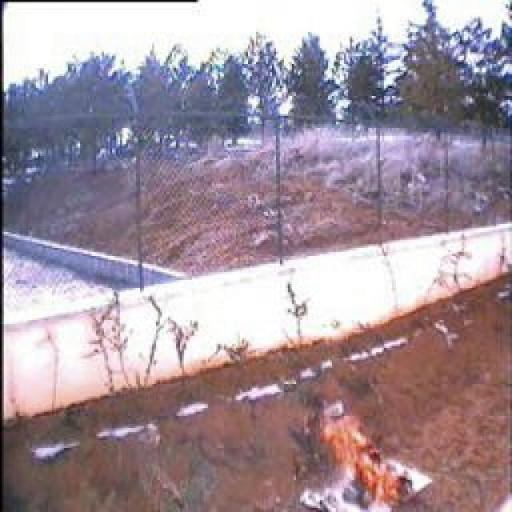smoke: (313, 400, 428, 506)
